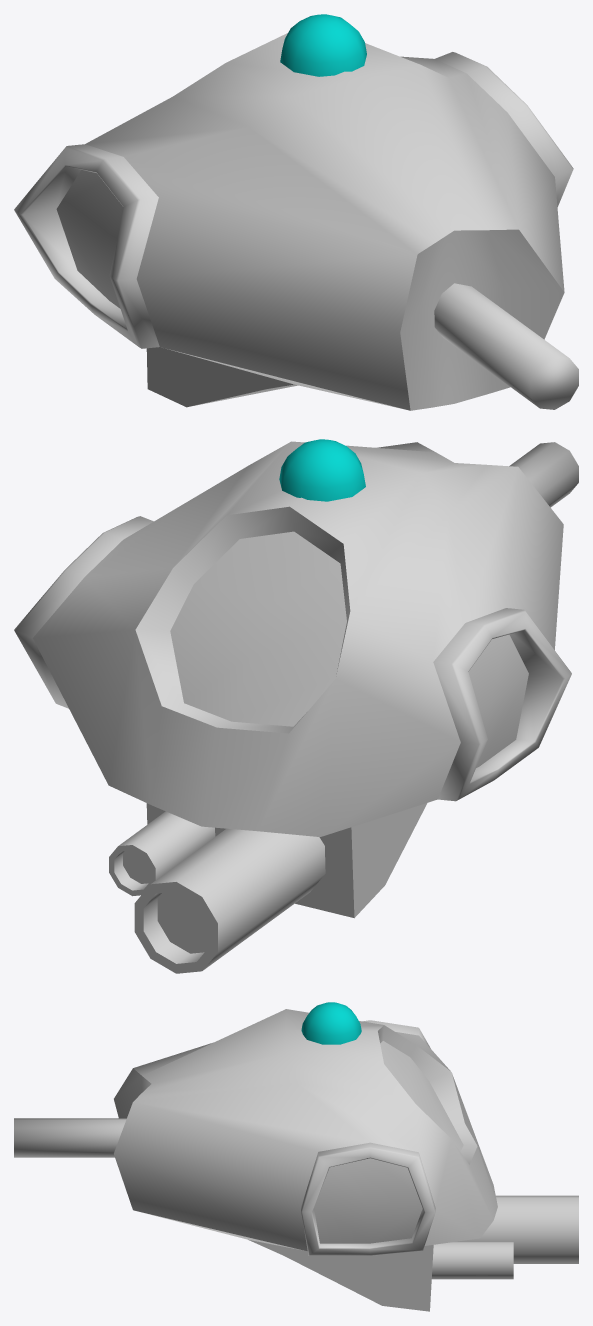
File: Melee_Body.fbx
3 views of the same model, one above another, from view 1: azimuth 30°, elevation 25°; view 2: azimuth 150°, elevation 25°; view 3: azimuth 270°, elevation 25° (orthographic). The views are drawn at different scales.
Visible parts, largest first — view 1: mesh_melee_robot_Body; view 2: mesh_melee_robot_Body; view 3: mesh_melee_robot_Body.
Part boxes in pixels (x1,y1,x2,y2): mesh_melee_robot_Body: (14, 14, 578, 410); mesh_melee_robot_Body: (14, 439, 578, 973); mesh_melee_robot_Body: (14, 1002, 578, 1311).
Bounding box in the file's own units: 51.99 × 42.23 × 79.31.
